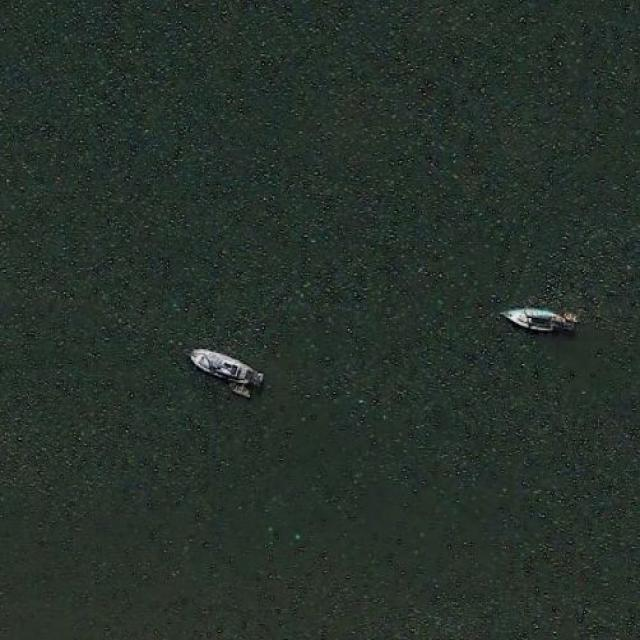ship: (183, 345, 264, 392), (494, 300, 572, 336)
